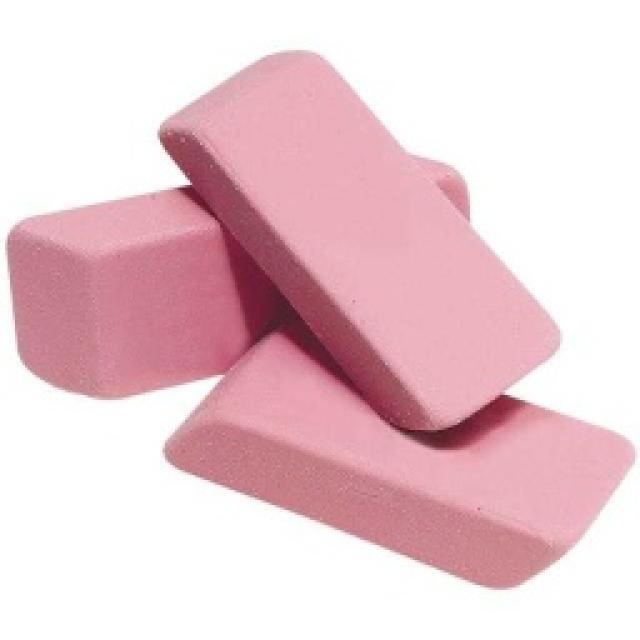Silgi: (158, 48, 566, 434)
